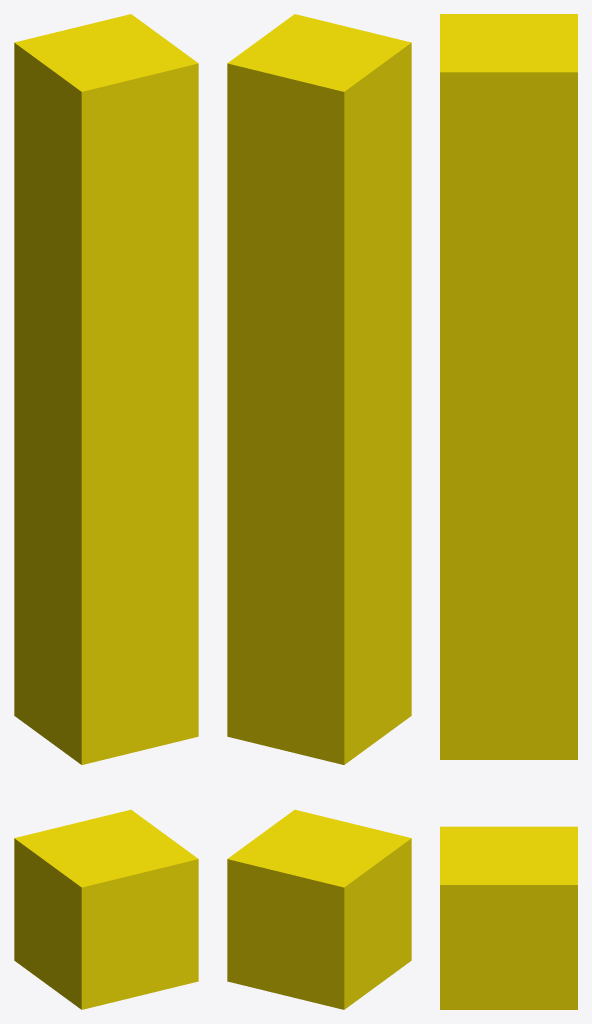
File: WorldEvent.obj
3 views of the same model, side by side, from view 1: azimuth 30°, elevation 25°; view 2: azimuth 150°, elevation 25°; view 3: azimuth 270°, elevation 25° (orthographic). The views are drawn at different scales.
Bounding box in the file's own units: 0.4 × 3 × 0.4.
Materials: 1 (1 with a texture image).
